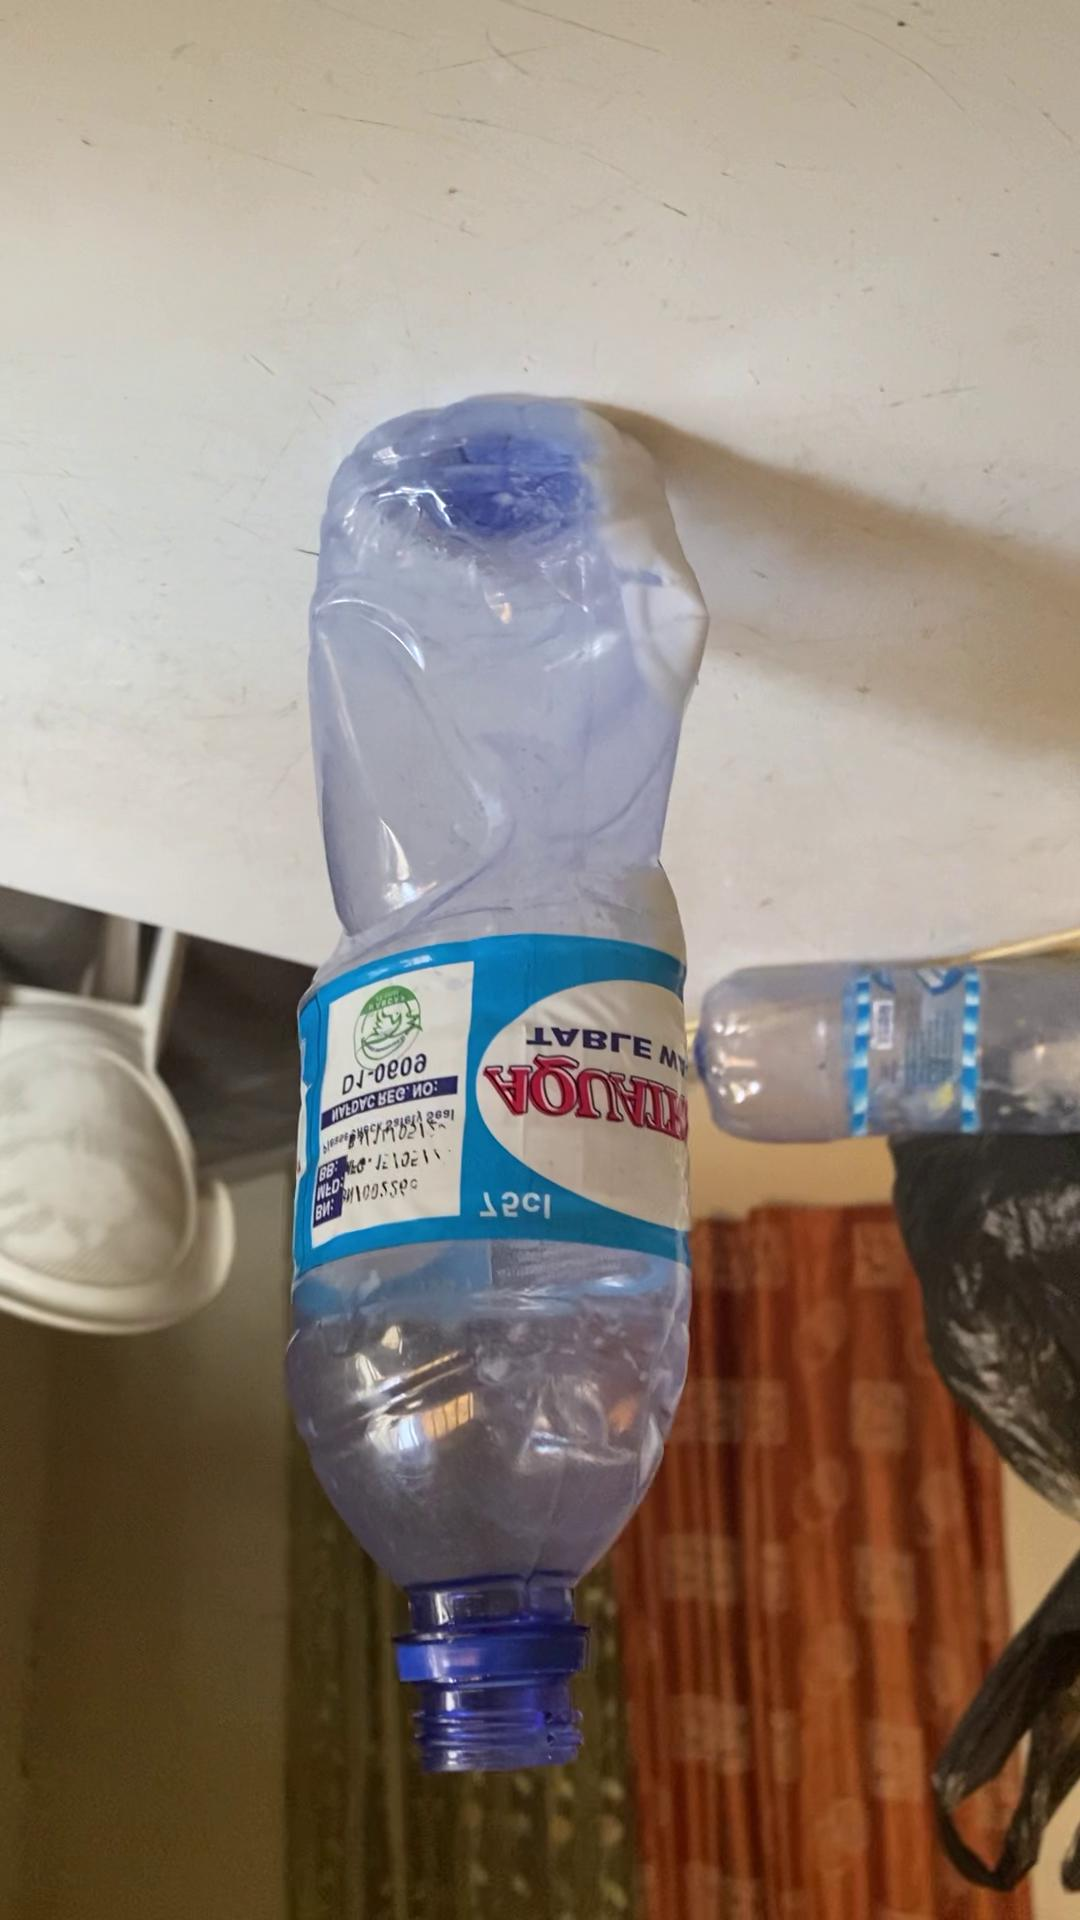crumbled: (281, 386, 720, 1785)
label: (291, 947, 691, 1273)
no-cap: (394, 1643, 597, 1772)
